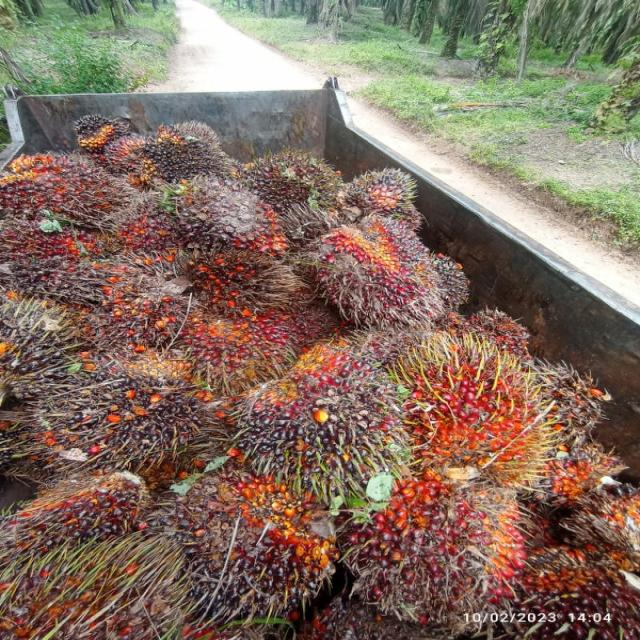fraksi 00: (148, 472, 335, 624), (227, 341, 401, 494), (42, 358, 218, 470), (0, 284, 94, 408), (160, 174, 286, 249), (246, 143, 352, 207), (131, 134, 236, 188), (26, 251, 110, 315), (341, 162, 428, 211), (95, 129, 162, 174), (63, 107, 124, 156), (161, 108, 216, 147)
fraksi 1: (299, 200, 445, 339)
fraksi 3: (337, 469, 532, 623), (388, 324, 562, 485), (168, 295, 325, 395), (6, 150, 128, 234)
fraksi 4: (70, 247, 196, 341), (190, 240, 296, 318)
